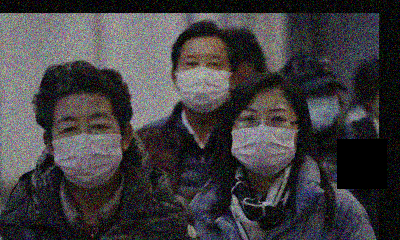with_mask: (48, 109, 125, 186), (232, 103, 298, 177), (175, 51, 233, 116), (305, 90, 342, 134)
